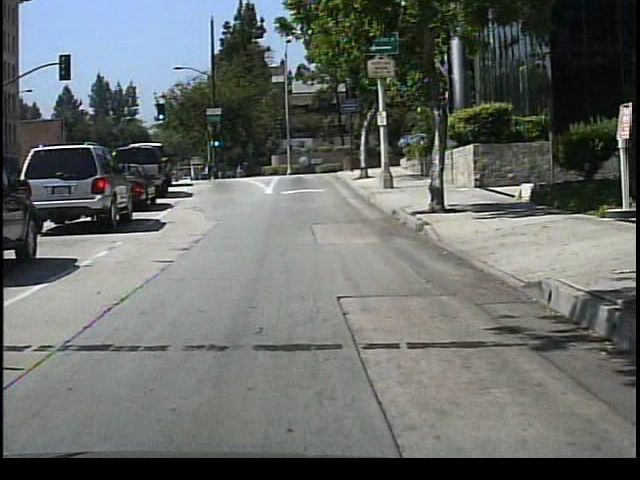person: (206, 157, 221, 181)
